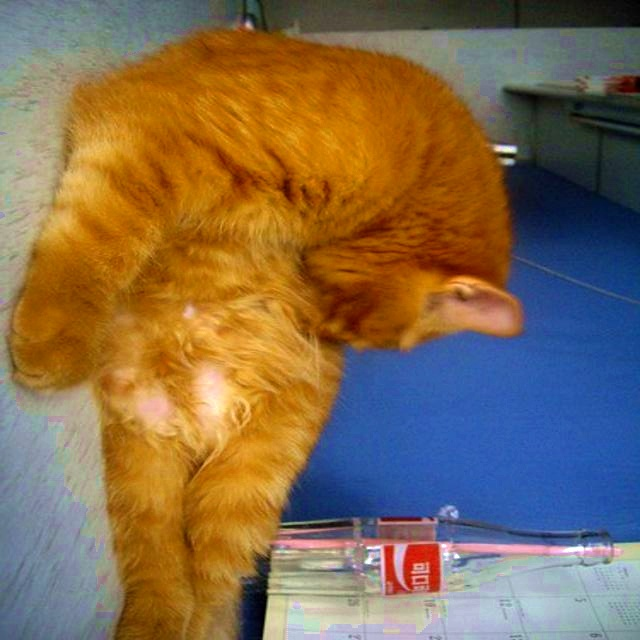hairloss: (117, 372, 230, 438)
